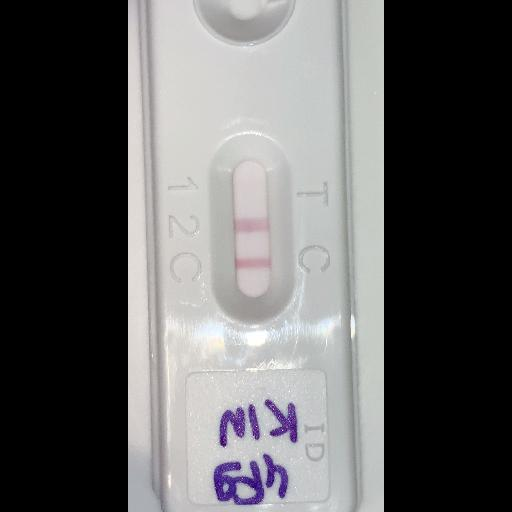Pos: (146, 0, 352, 507)
